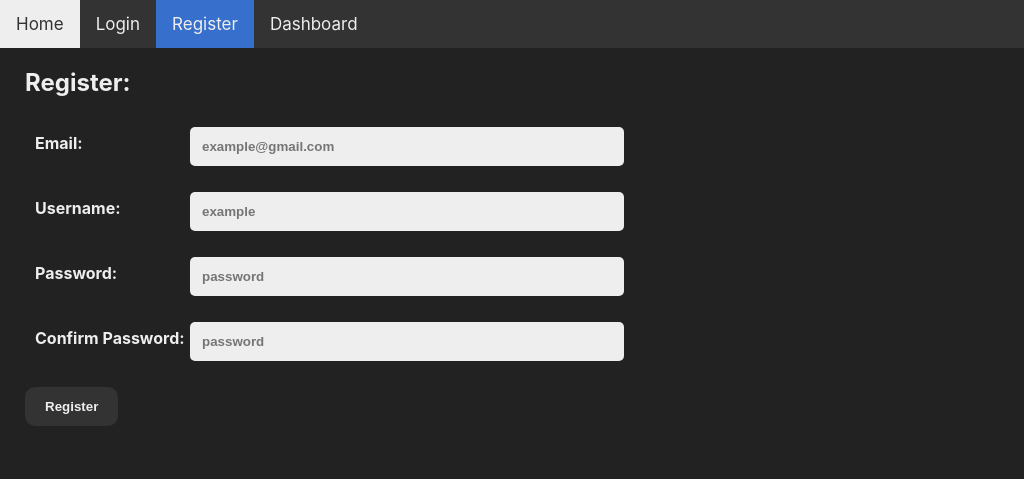
it: displays specific error message when registering with duplicate email
The image size is (1024, 479).
Type "invalid@email.com" into the field labelled "Email:" at (407, 146), box [190, 127, 624, 166]
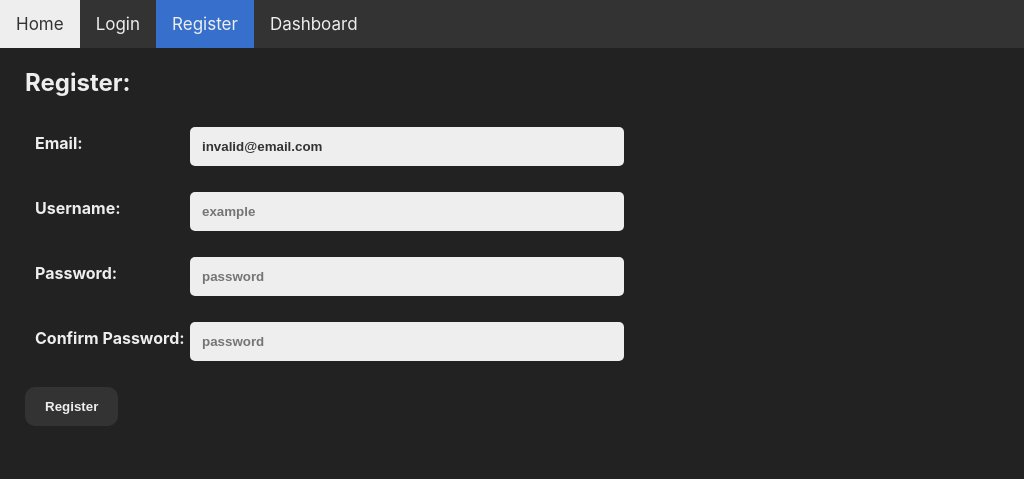
Type "username" into the field labelled "Username:" at (407, 211), box [190, 192, 624, 231]
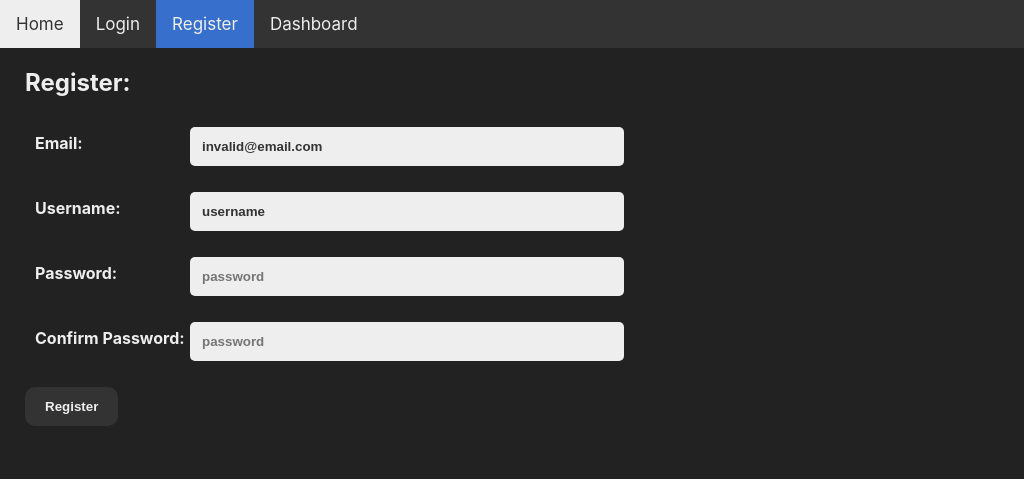
Type "password" into the password field labelled "Password:" at (407, 276), box [190, 257, 624, 296]
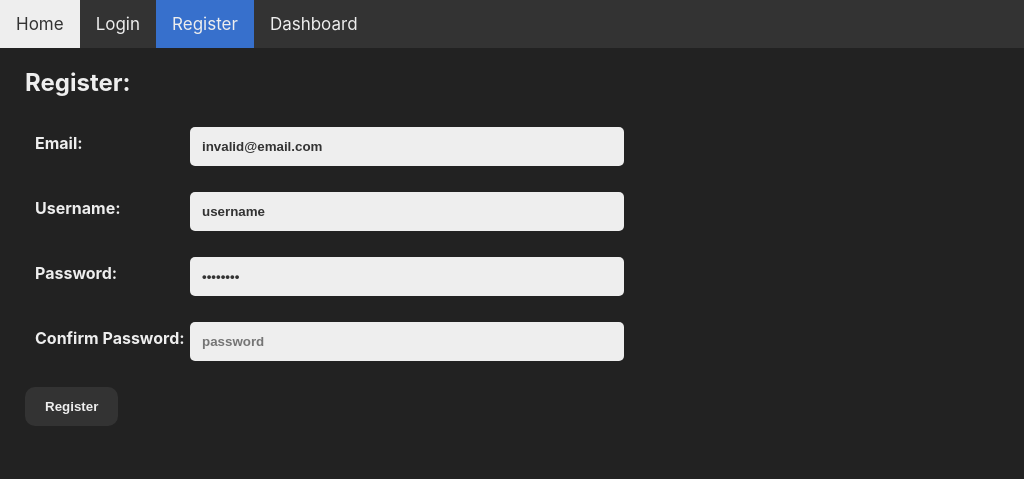
Type "password" into the password field labelled "Confirm Password:" at (407, 341), box [190, 322, 624, 361]
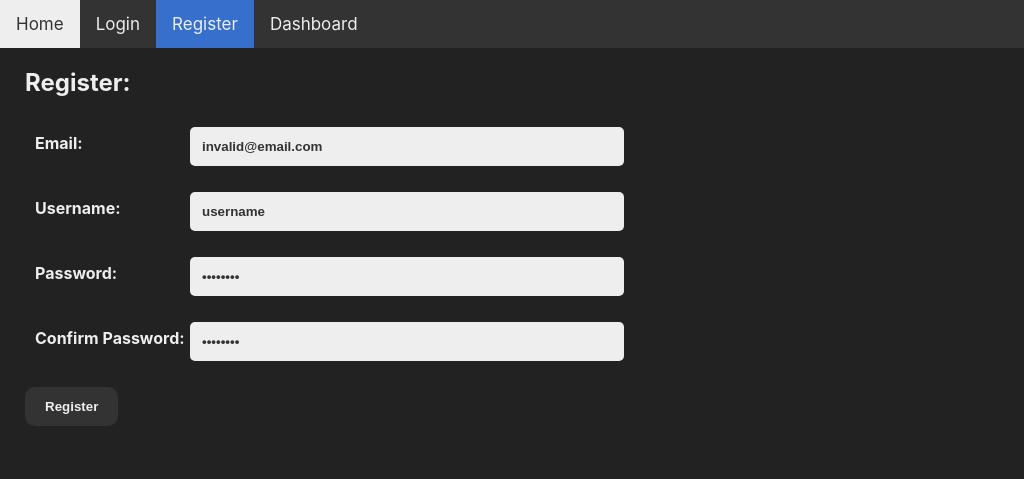
// Submit the form
Click the button "Register" at (72, 406), box [25, 387, 118, 426]
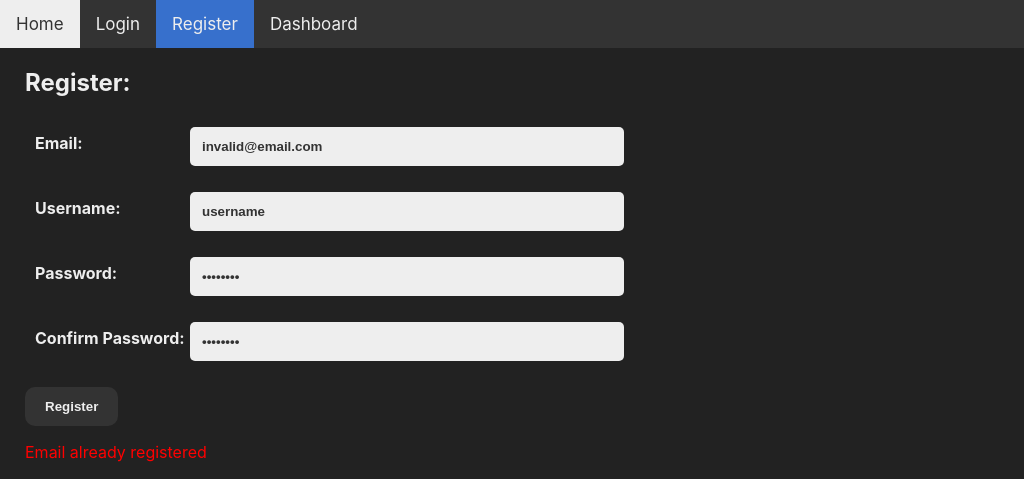
expect the text "Email already registered" is shown: met, box [25, 442, 207, 462]
